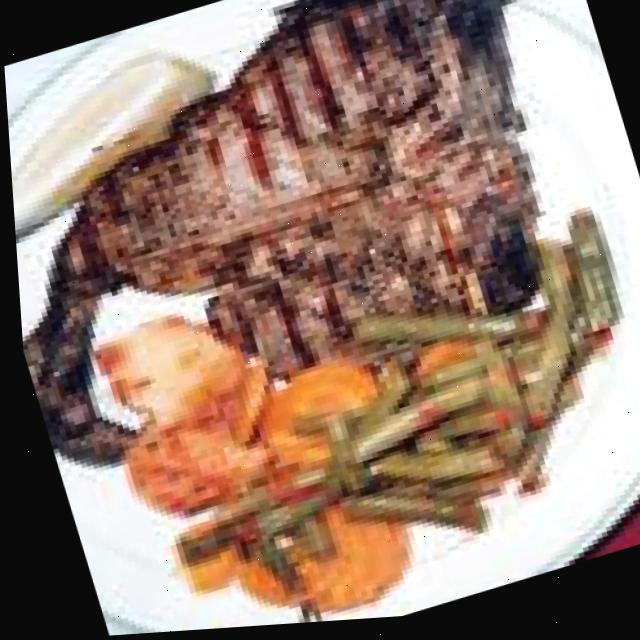牛肉菜式: (23, 0, 587, 396)
